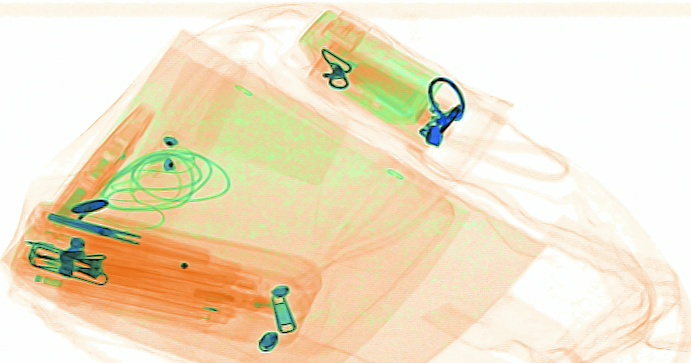lighter: (19, 242, 87, 279)
scissors: (41, 209, 212, 266)
